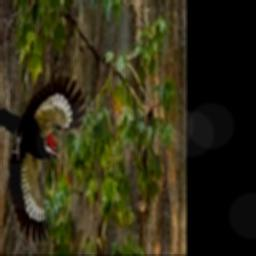Woodpecker: (0, 73, 89, 239)
